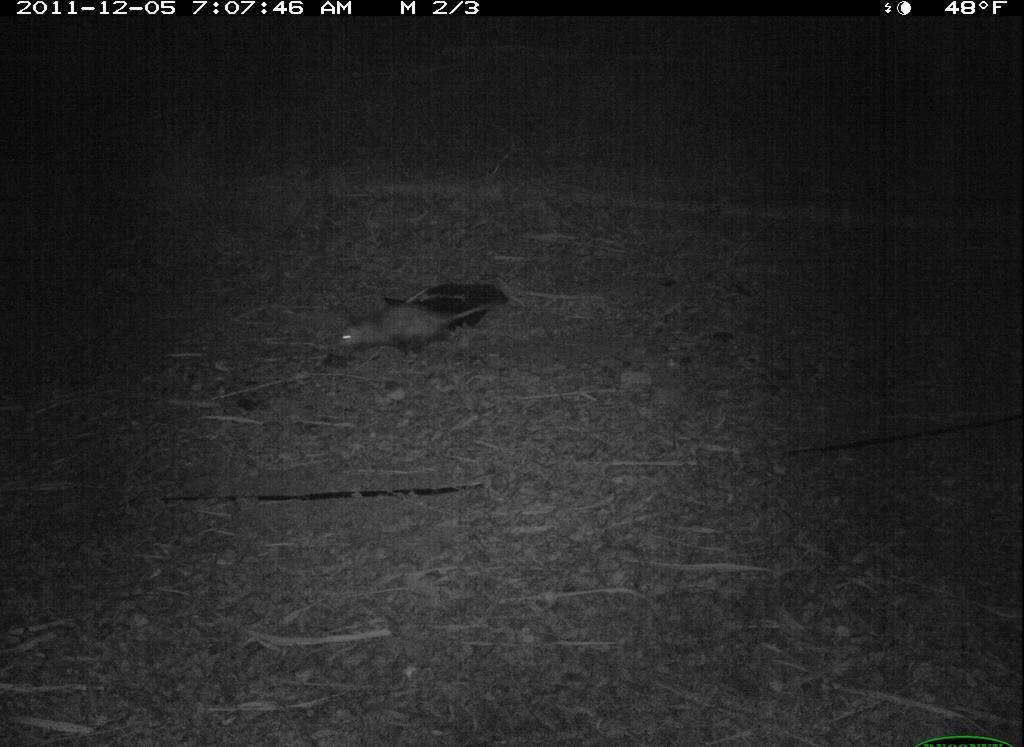opossum: (310, 281, 523, 370)
